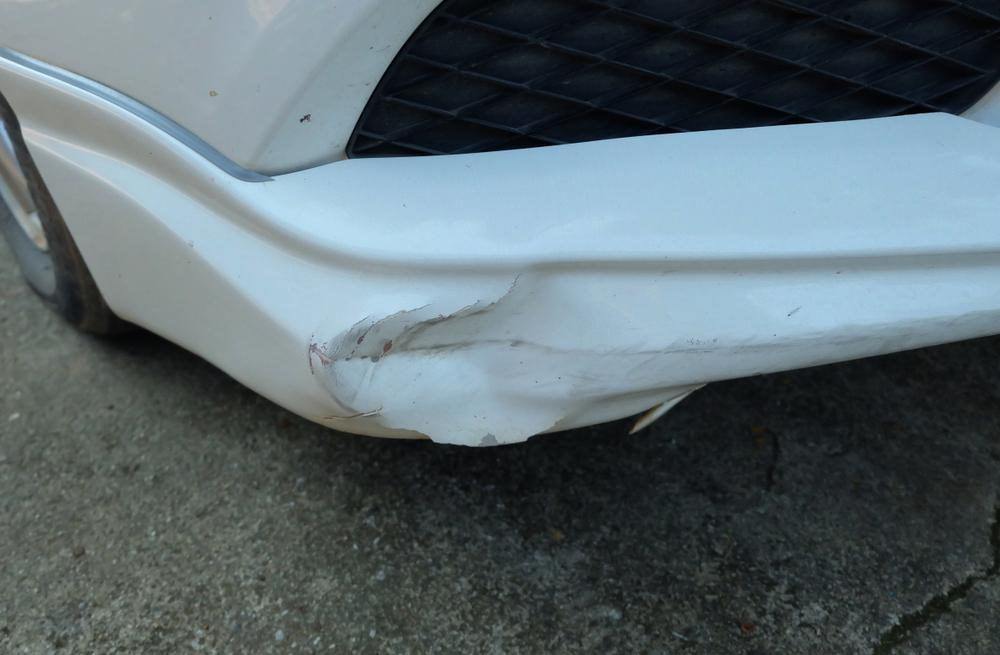dent: (323, 271, 601, 443)
